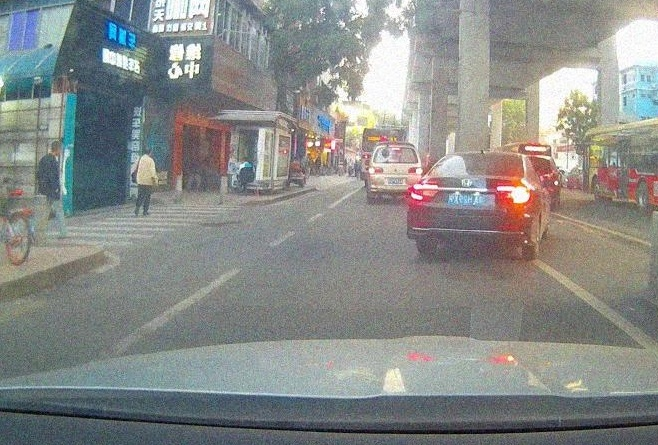L_light: (410, 184, 439, 202)
R_light: (495, 185, 530, 203)
T_light: (473, 153, 490, 158)
day-right: (407, 151, 531, 260)
